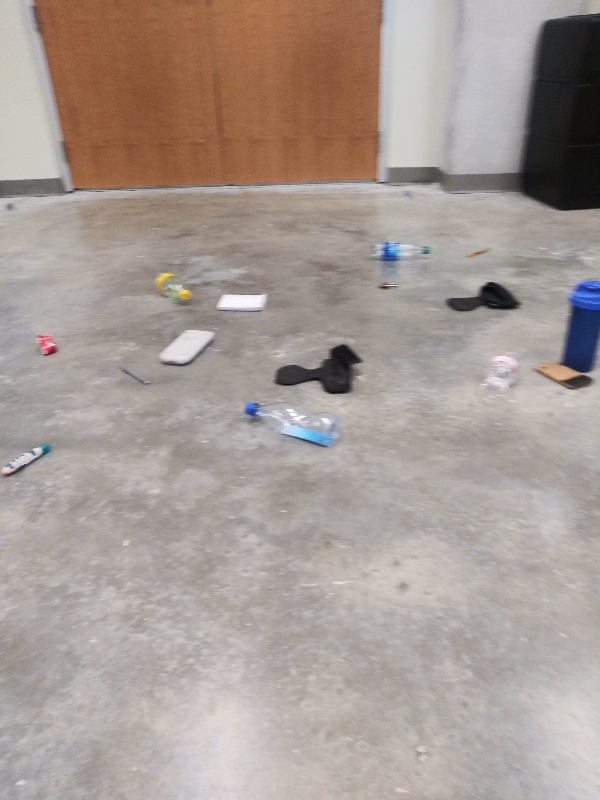bottle: (240, 397, 347, 451), (477, 349, 525, 420), (151, 268, 196, 308), (364, 239, 434, 263)
